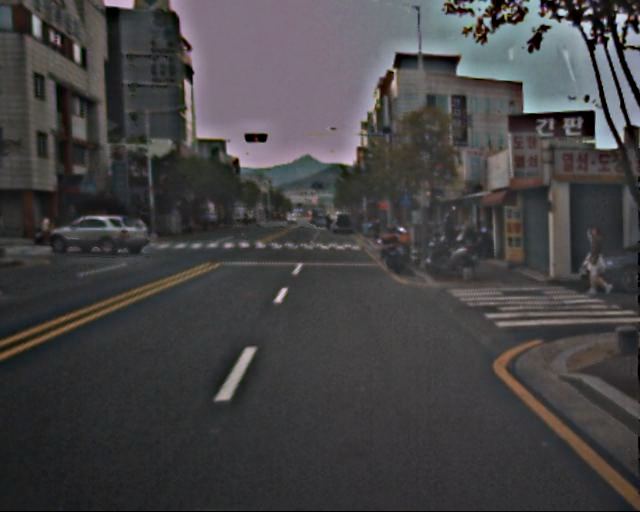person: (578, 224, 610, 299)
